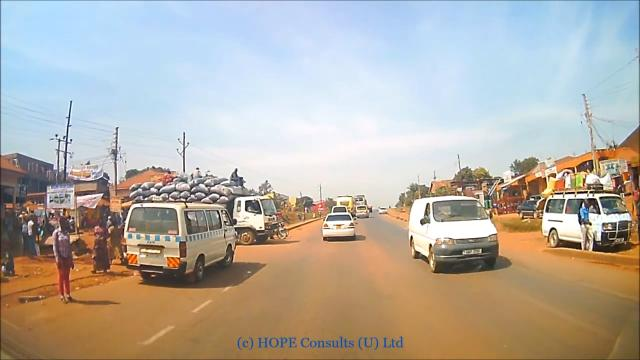car: (321, 213, 359, 241), (354, 202, 369, 217), (330, 205, 348, 213)
truck: (231, 188, 280, 247)
van: (122, 204, 242, 277), (406, 195, 497, 266), (540, 186, 632, 252)
